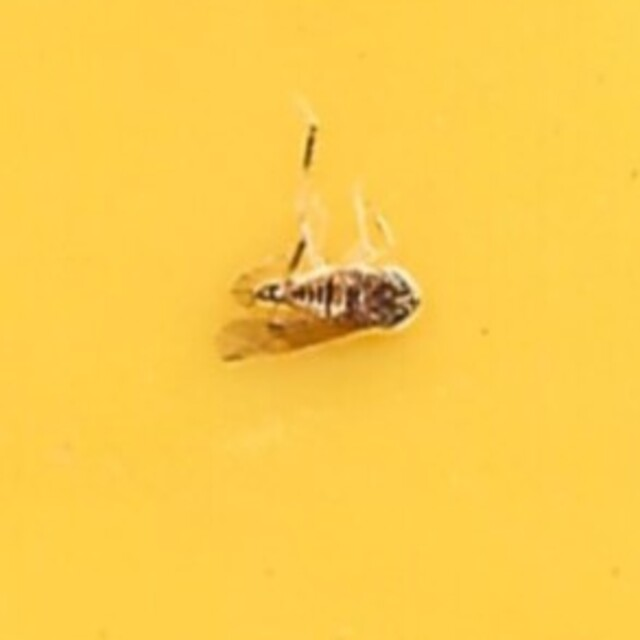Hemiptera: (218, 262, 422, 378)
